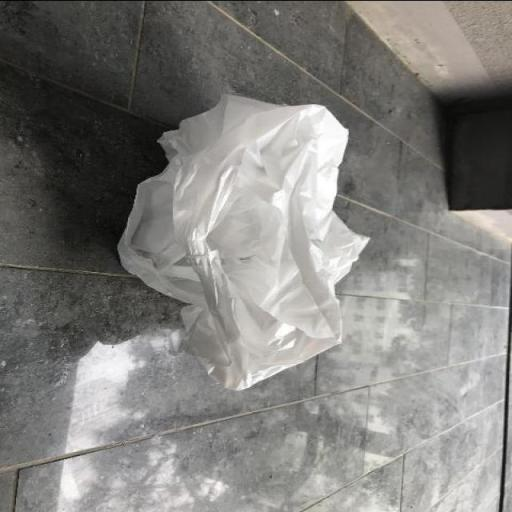plastic-bag: (106, 92, 374, 394)
